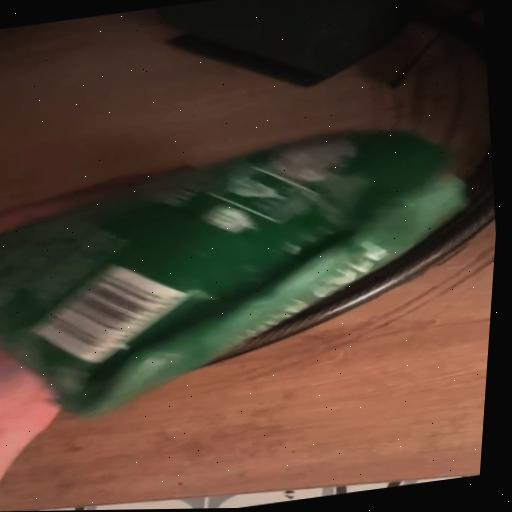cafe_xay: (0, 132, 468, 414)
